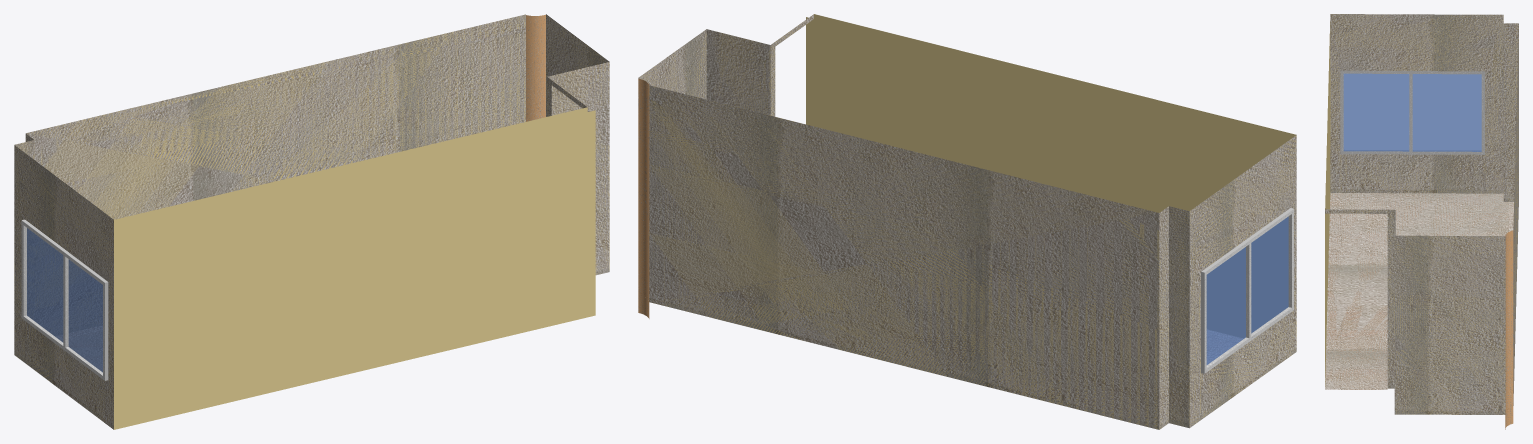
File: DES036.obj
3 renders of one model, left to right at view 1: azimuth 30°, elevation 25°; view 2: azimuth 150°, elevation 25°; view 3: azimuth 270°, elevation 25°, orthographic. The views are drawn at different scales.
Parts seen in each view (by area): view 1: Mesh6 DES036 Model, Mesh1 ventana2_1 DES036 Model; view 2: Mesh6 DES036 Model, Mesh1 ventana2_1 DES036 Model; view 3: Mesh6 DES036 Model, Mesh1 ventana2_1 DES036 Model.
Part boxes in pixels (x1,y1,x2,y2): Mesh6 DES036 Model: [14, 14, 609, 429]; Mesh1 ventana2_1 DES036 Model: [21, 219, 108, 380]; Mesh6 DES036 Model: [638, 14, 1296, 429]; Mesh1 ventana2_1 DES036 Model: [1201, 208, 1293, 373]; Mesh6 DES036 Model: [1325, 14, 1518, 429]; Mesh1 ventana2_1 DES036 Model: [1340, 70, 1484, 154].
Size of the model in its own units: 8.04 by 3.25 by 2.95.
Materials: 8 (2 with a texture image).
